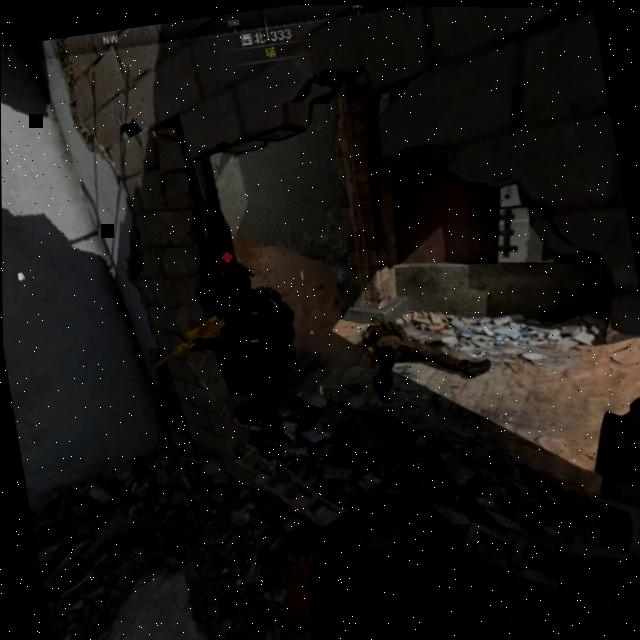MW2_body: (177, 240, 326, 449)
